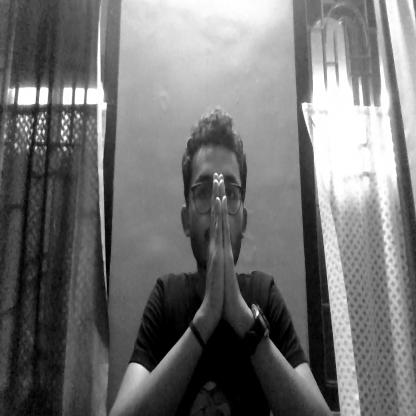Normal: (181, 85, 256, 305)
